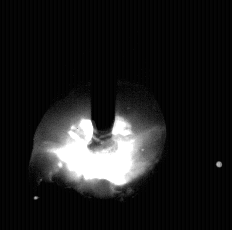arame: (91, 0, 117, 151)
poca: (34, 0, 166, 230)
